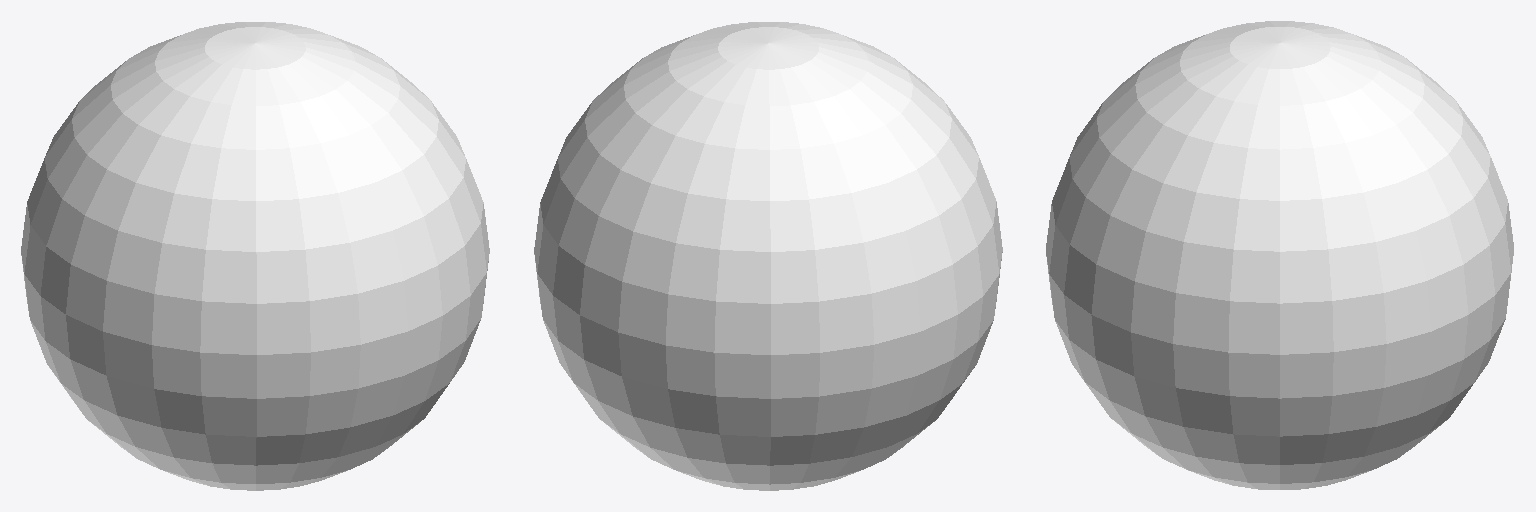
File: sunmesh.obj
3 renders of one model, left to right at view 1: azimuth 30°, elevation 25°; view 2: azimuth 150°, elevation 25°; view 3: azimuth 270°, elevation 25°, orthographic.
Parts seen in each view (by area): view 1: Default object_1; view 2: Default object_1; view 3: Default object_1.
Boxes of the visible parts, <box> form: Default object_1: <box>21,22,489,490</box>; Default object_1: <box>534,22,1002,490</box>; Default object_1: <box>1046,21,1513,489</box>.
Size of the model in its own units: 21.94 by 22 by 21.96.